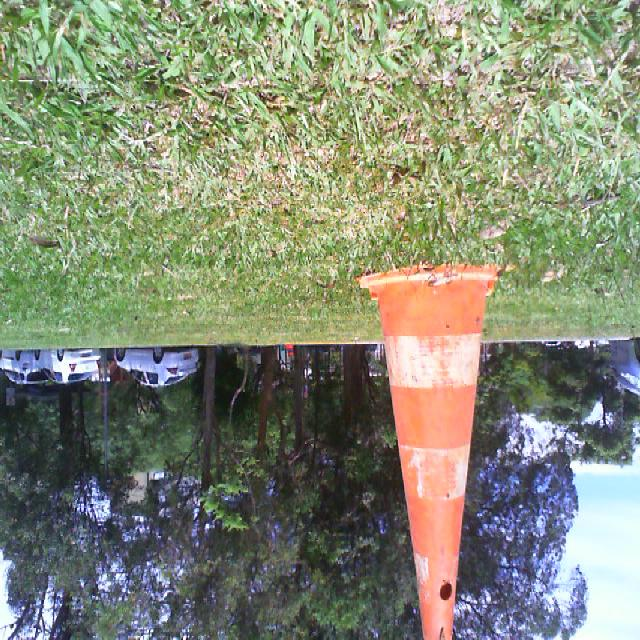cone: (360, 264, 498, 640)
